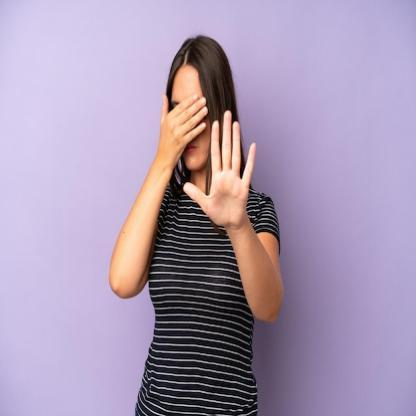stop: (180, 108, 259, 230)
